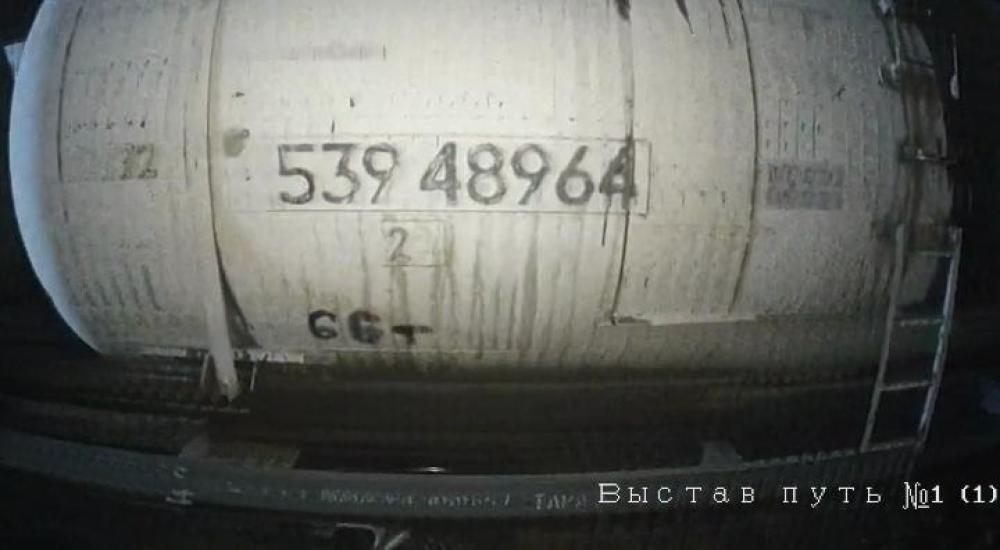Wagon-number: (274, 138, 640, 212)
